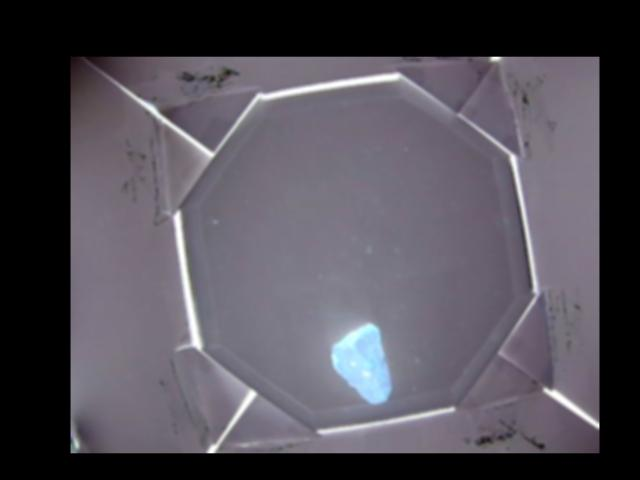Brisk: (330, 322, 391, 405)
